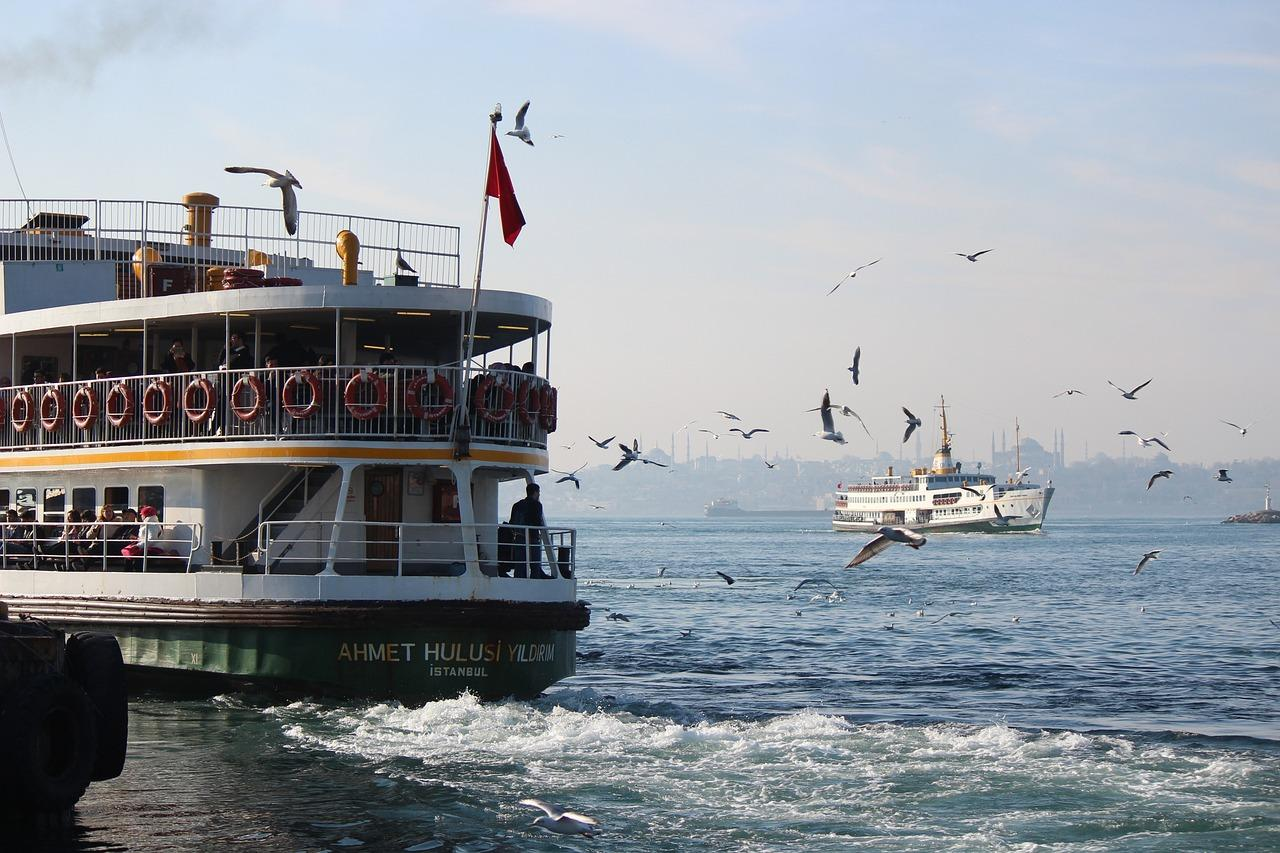Ship: (1, 196, 589, 700), (834, 401, 1056, 534)
